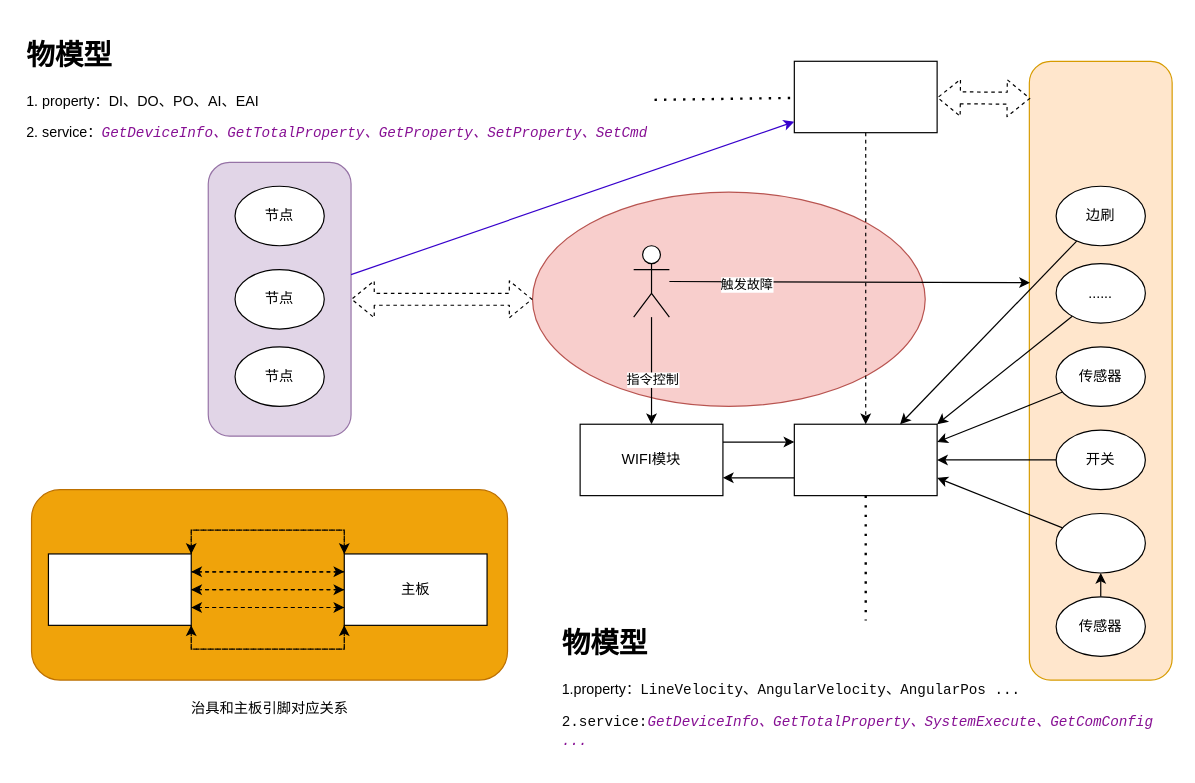
Some shapes in this 1195 by 783 pixel diagram are drawn without their labels. The centre of each missing label's shape, as x and y in pixels:
Actor: (650,281)
主板(Linux 系统): (865,459)
单片机: (1100,542)
治具: (119,589)
治具(Linux 系统): (865,96)
